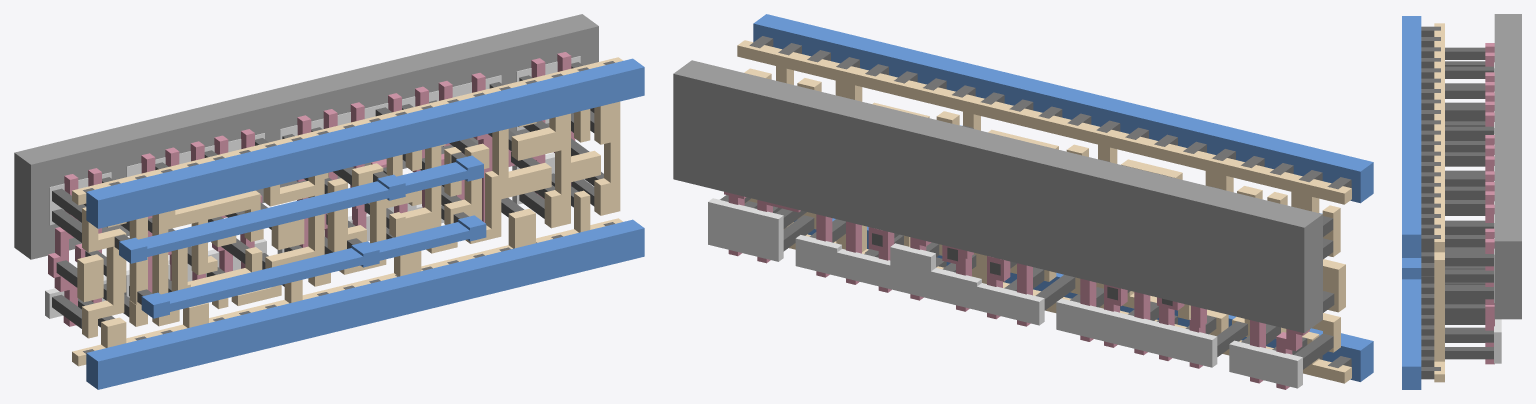
Rendered from sky130_fd_sc_hd__sdfxtp_1.gds.gltf.
3 views of the same model, side by side, from view 1: azimuth 30°, elevation 25°; view 2: azimuth 150°, elevation 25°; view 3: azimuth 270°, elevation 25° (orthographic). The views are drawn at different scales.
Parts seen in each view (by area): view 1: sky130_fd_sc_hd__sdfxtp_1_met1, sky130_fd_sc_hd__sdfxtp_1_li1, sky130_fd_sc_hd__sdfxtp_1_nwell, sky130_fd_sc_hd__sdfxtp_1_poly, sky130_fd_sc_hd__sdfxtp_1_licon, sky130_fd_sc_hd__sdfxtp_1_diff, sky130_fd_sc_hd__sdfxtp_1_mcon; view 2: sky130_fd_sc_hd__sdfxtp_1_nwell, sky130_fd_sc_hd__sdfxtp_1_li1, sky130_fd_sc_hd__sdfxtp_1_diff, sky130_fd_sc_hd__sdfxtp_1_met1, sky130_fd_sc_hd__sdfxtp_1_poly, sky130_fd_sc_hd__sdfxtp_1_licon, sky130_fd_sc_hd__sdfxtp_1_mcon; view 3: sky130_fd_sc_hd__sdfxtp_1_licon, sky130_fd_sc_hd__sdfxtp_1_nwell, sky130_fd_sc_hd__sdfxtp_1_met1, sky130_fd_sc_hd__sdfxtp_1_mcon, sky130_fd_sc_hd__sdfxtp_1_li1, sky130_fd_sc_hd__sdfxtp_1_poly, sky130_fd_sc_hd__sdfxtp_1_diff.
Part boxes in pixels (x1,y1,x2,y2): sky130_fd_sc_hd__sdfxtp_1_met1: [86, 58, 644, 389]; sky130_fd_sc_hd__sdfxtp_1_li1: [72, 57, 622, 366]; sky130_fd_sc_hd__sdfxtp_1_nwell: [14, 14, 598, 259]; sky130_fd_sc_hd__sdfxtp_1_poly: [48, 52, 575, 326]; sky130_fd_sc_hd__sdfxtp_1_licon: [52, 62, 603, 328]; sky130_fd_sc_hd__sdfxtp_1_diff: [45, 56, 580, 318]; sky130_fd_sc_hd__sdfxtp_1_mcon: [83, 61, 614, 353]; sky130_fd_sc_hd__sdfxtp_1_nwell: [673, 60, 1322, 333]; sky130_fd_sc_hd__sdfxtp_1_li1: [737, 40, 1351, 383]; sky130_fd_sc_hd__sdfxtp_1_diff: [708, 198, 1302, 388]; sky130_fd_sc_hd__sdfxtp_1_met1: [753, 14, 1373, 381]; sky130_fd_sc_hd__sdfxtp_1_poly: [724, 191, 1309, 389]; sky130_fd_sc_hd__sdfxtp_1_licon: [720, 125, 1334, 369]; sky130_fd_sc_hd__sdfxtp_1_mcon: [749, 36, 1351, 367]; sky130_fd_sc_hd__sdfxtp_1_licon: [1445, 47, 1493, 359]; sky130_fd_sc_hd__sdfxtp_1_nwell: [1494, 14, 1521, 319]; sky130_fd_sc_hd__sdfxtp_1_met1: [1402, 16, 1421, 389]; sky130_fd_sc_hd__sdfxtp_1_mcon: [1421, 26, 1440, 379]; sky130_fd_sc_hd__sdfxtp_1_li1: [1434, 23, 1444, 382]; sky130_fd_sc_hd__sdfxtp_1_poly: [1485, 43, 1494, 364]; sky130_fd_sc_hd__sdfxtp_1_diff: [1494, 62, 1501, 363].
Size of the model in its own units: 10.04 by 3.2 by 2.24.
